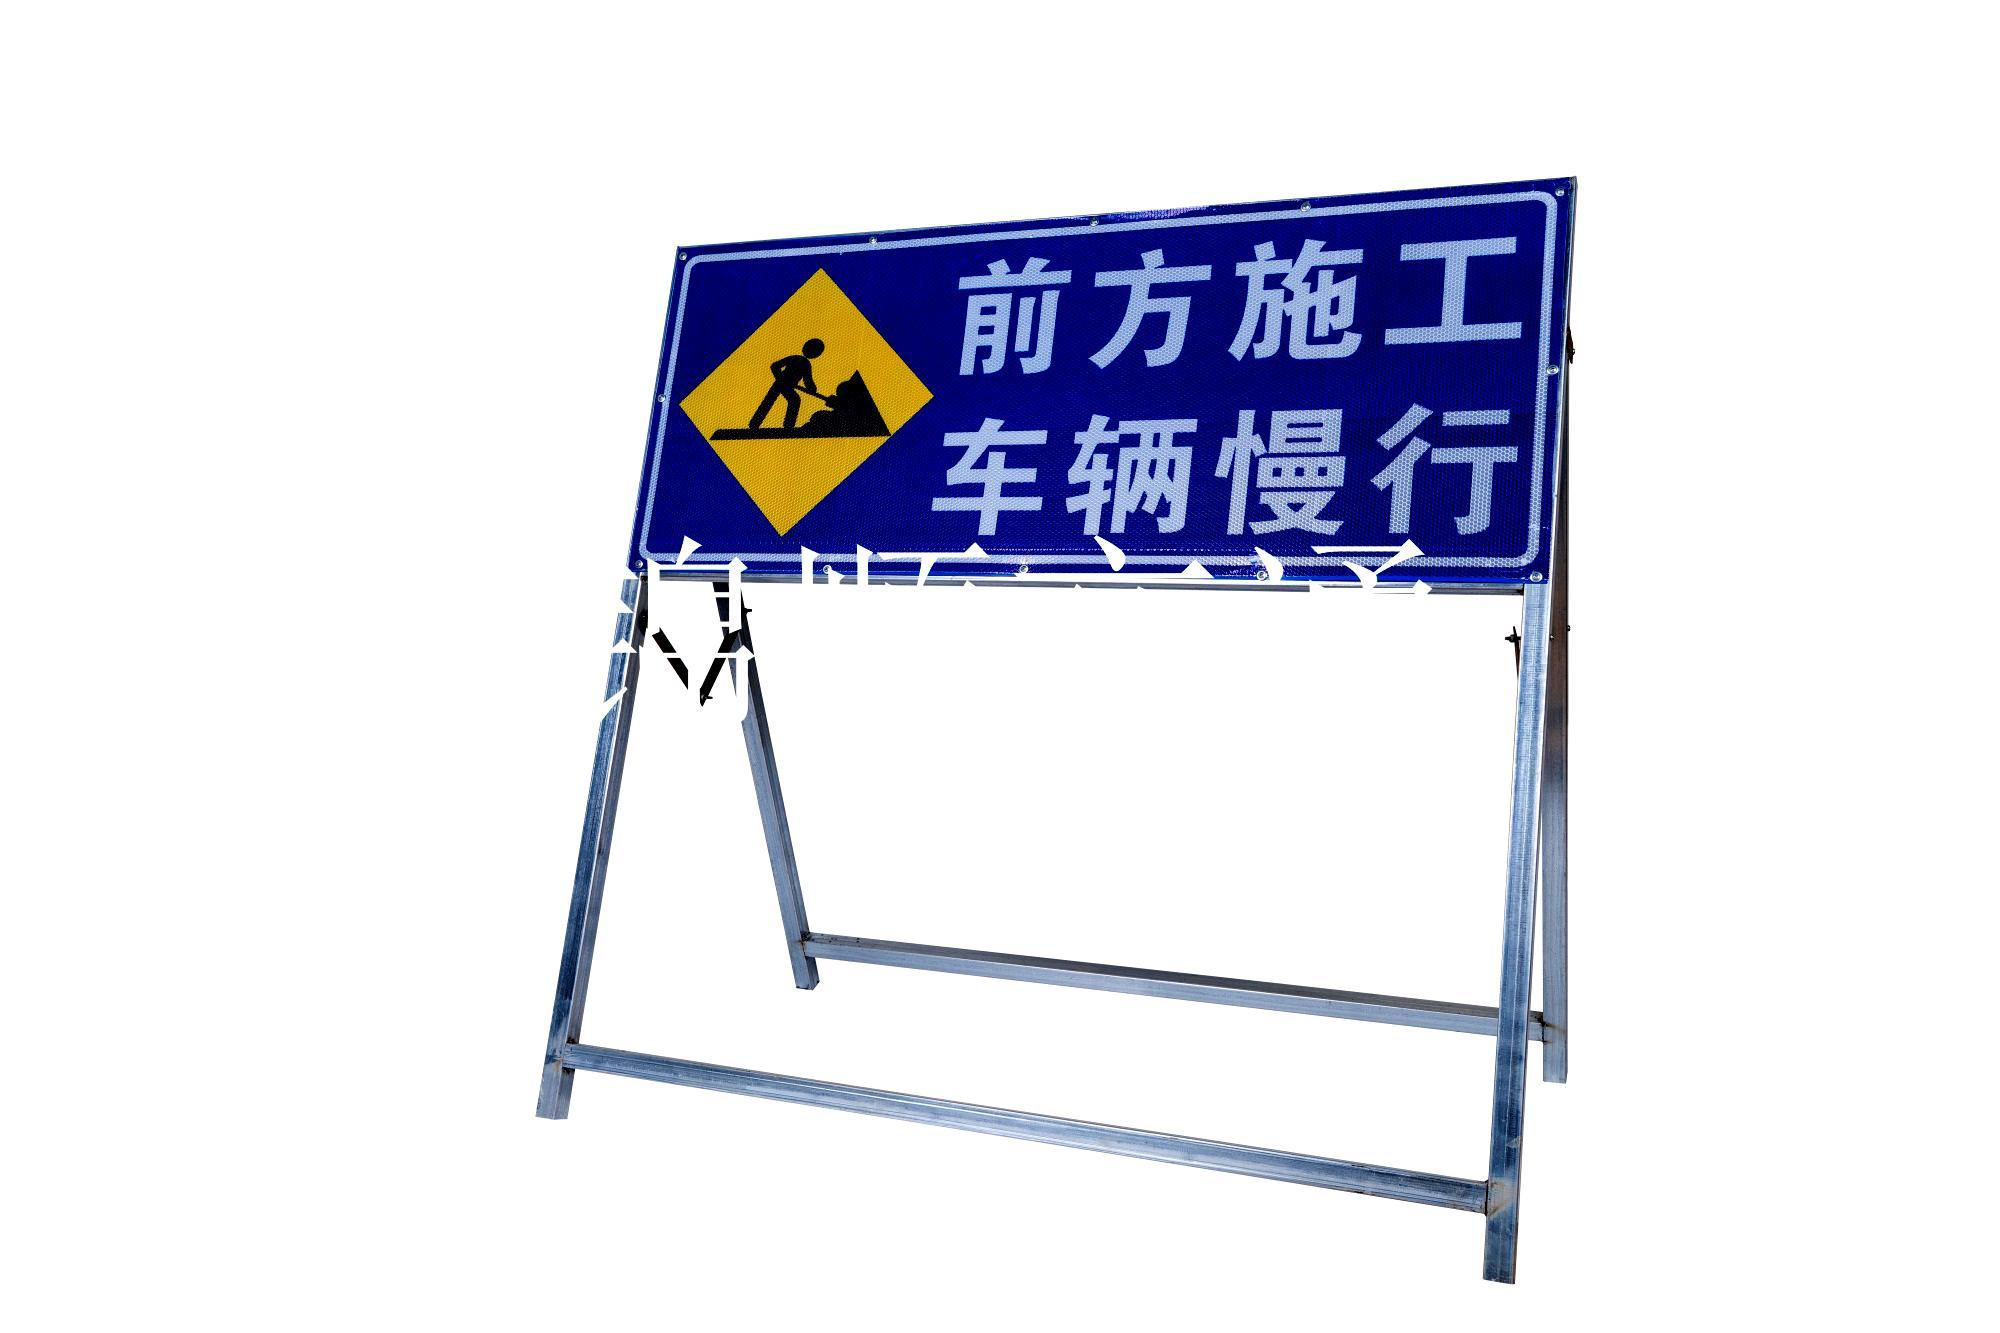sign: (645, 190, 1561, 577)
